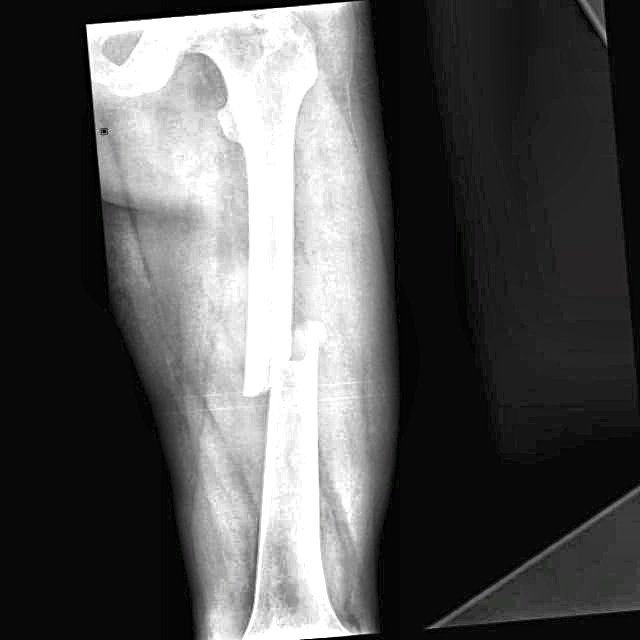Transverse: (217, 300, 347, 443)
